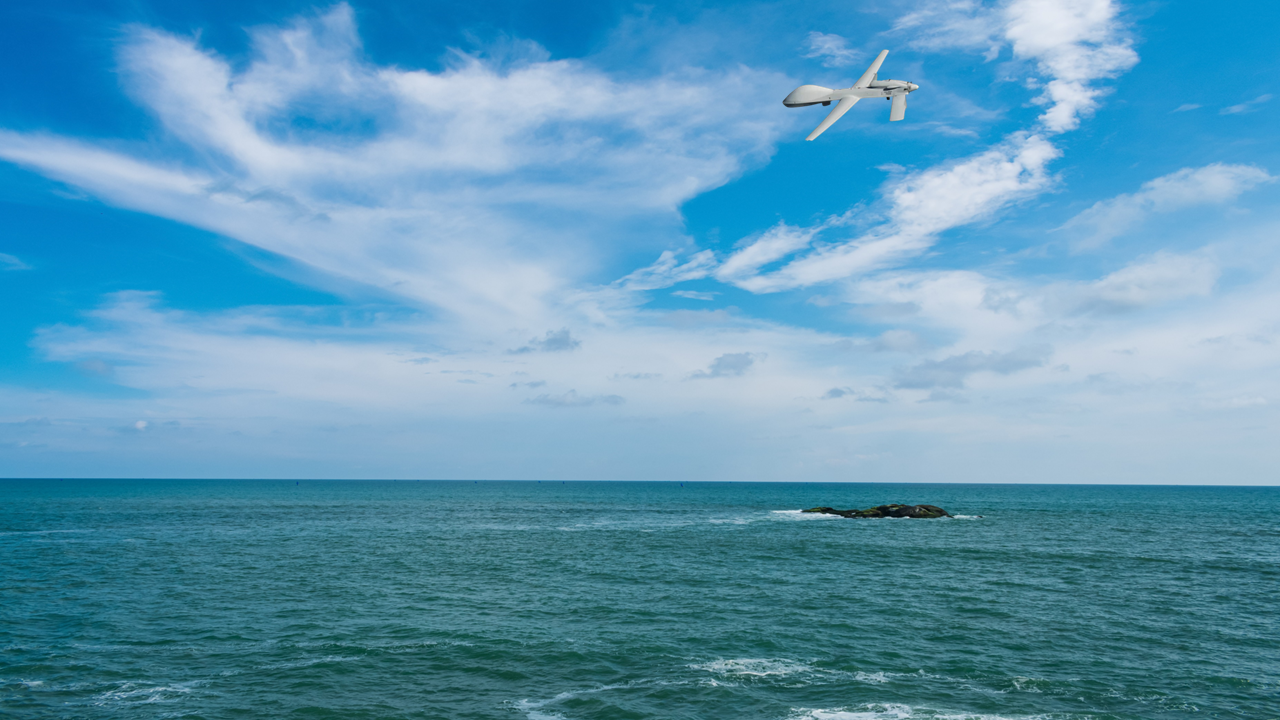military drone: (782, 49, 918, 141)
